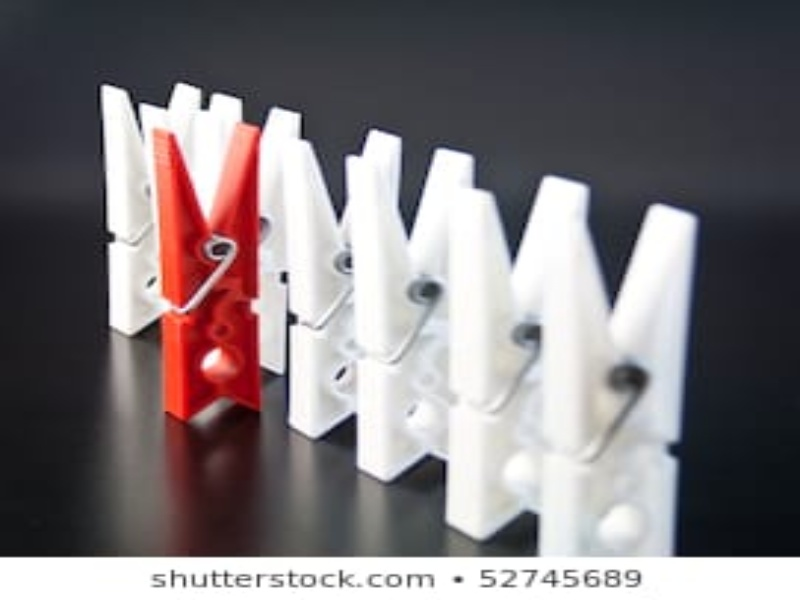plastic-peg: (541, 198, 683, 556), (343, 146, 481, 484), (445, 174, 558, 544), (281, 126, 403, 439), (150, 124, 266, 421), (94, 77, 207, 342), (198, 89, 294, 384)
